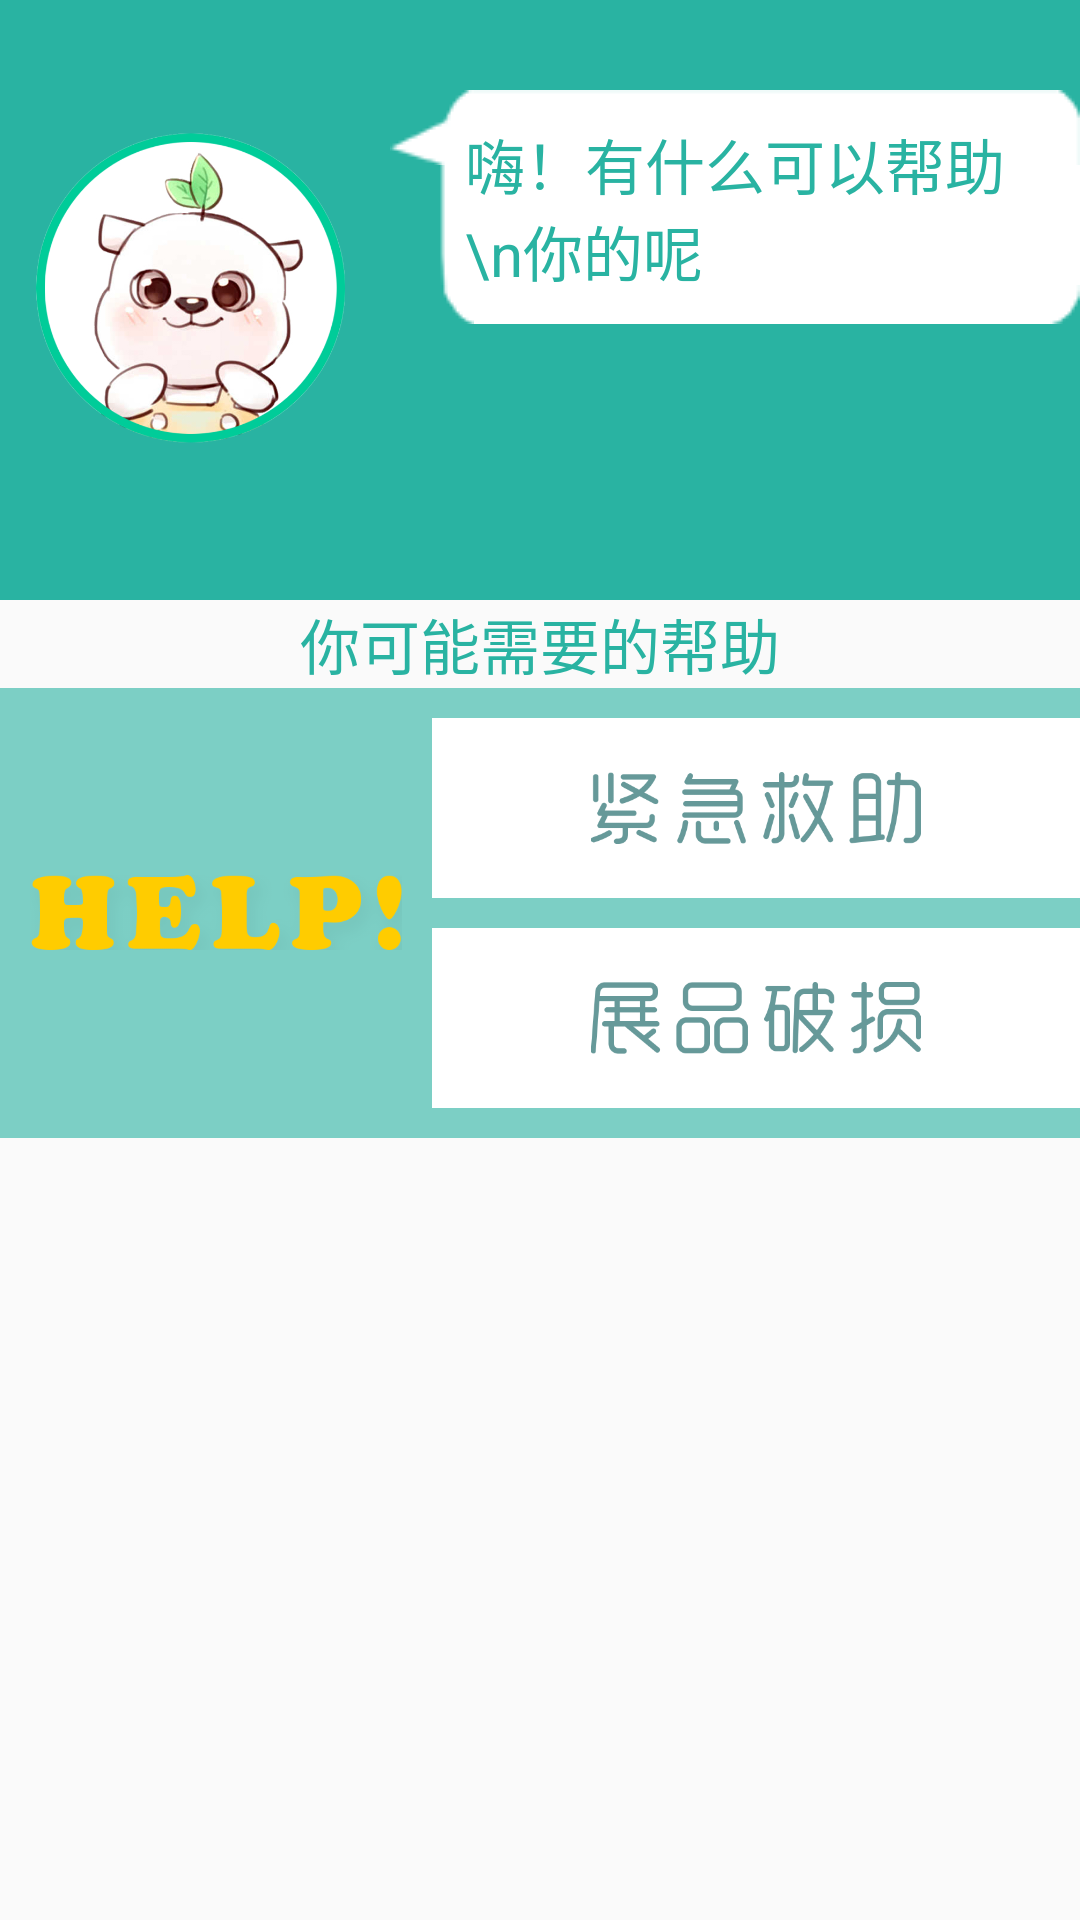

Point at icon controls on the screen. Image size 1080x1920, points as (x=x, y=y).
head: (x=190, y=287)
